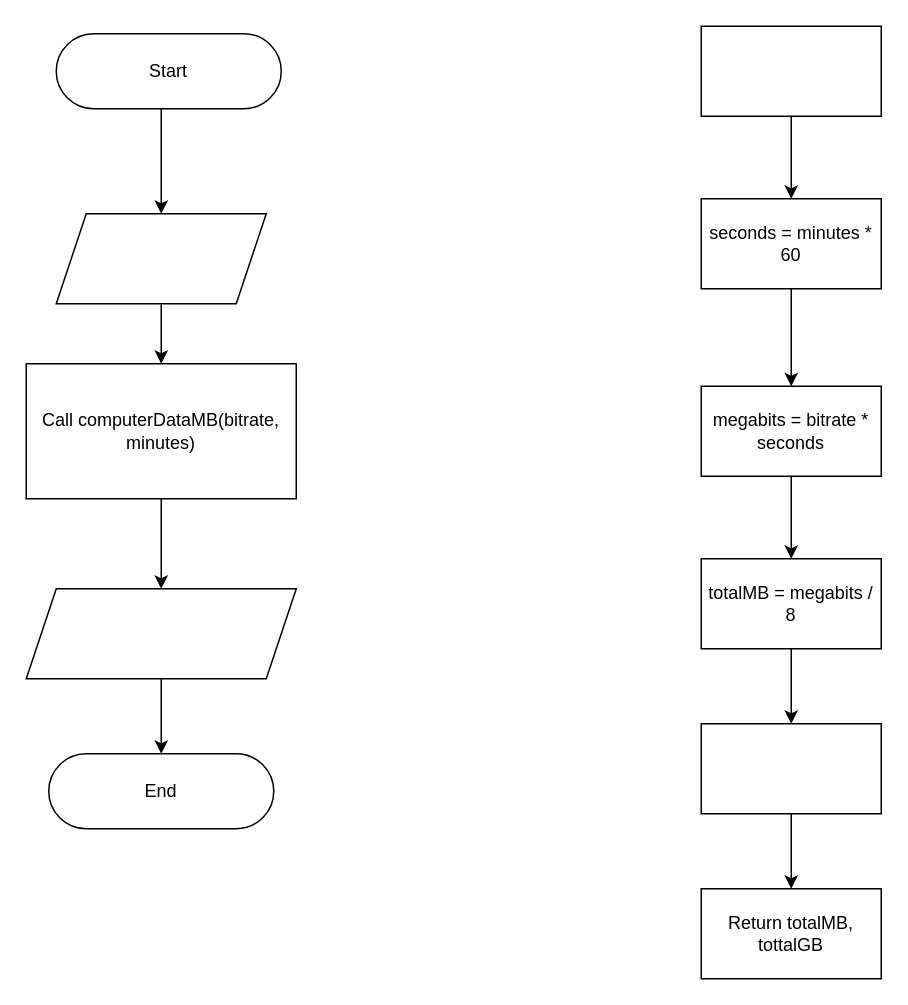
Some shapes in this 908 by 1005 pixel diagram are drawn without their labels. The centre of each missing label's shape, as x and y in pixels:
"computeDataMB (bitrate, minutes)" goes at pixel 790 70.
"Display totalMB, totalGB" goes at pixel 160 633.
"Input bitrate (Mbps), minutes" goes at pixel 160 258.
"totalGB = totalMB / 1024" goes at pixel 790 768.
